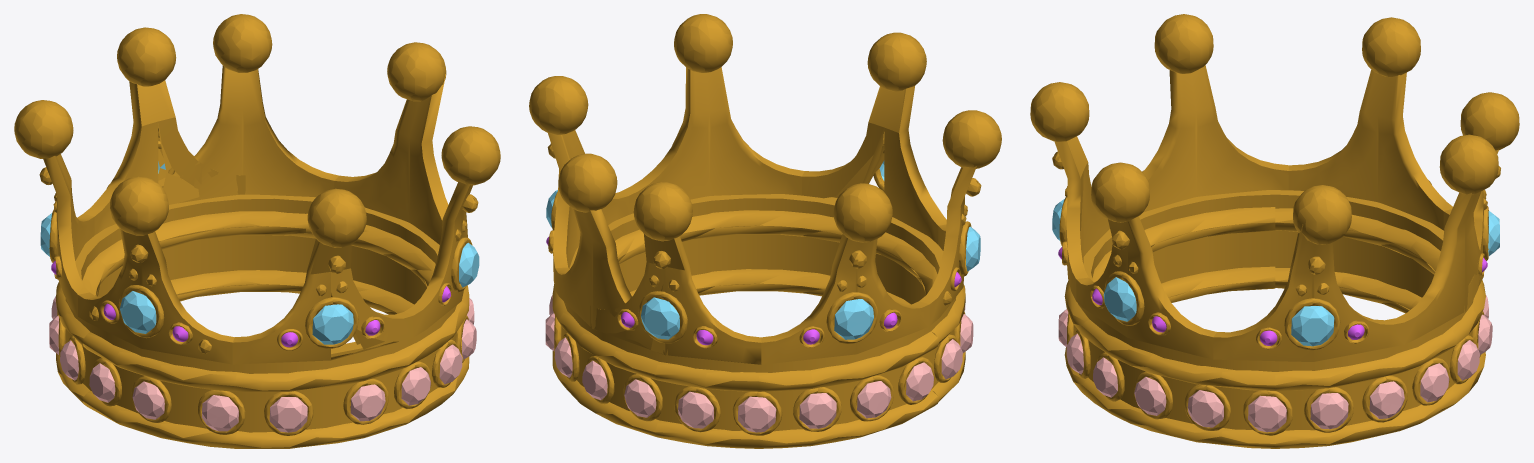
The model's file is crown.fbx.
3 views of the same model, side by side, from view 1: azimuth 30°, elevation 25°; view 2: azimuth 150°, elevation 25°; view 3: azimuth 270°, elevation 25° (orthographic).
Parts seen in each view (by area): view 1: crown; view 2: crown; view 3: crown.
Boxes of the visible parts, x1,y1,x2,y2 form: crown: (14, 14, 500, 448); crown: (529, 14, 1001, 448); crown: (1030, 14, 1519, 448).
Bounding box in the file's own units: 2421 × 1530 × 2553.
